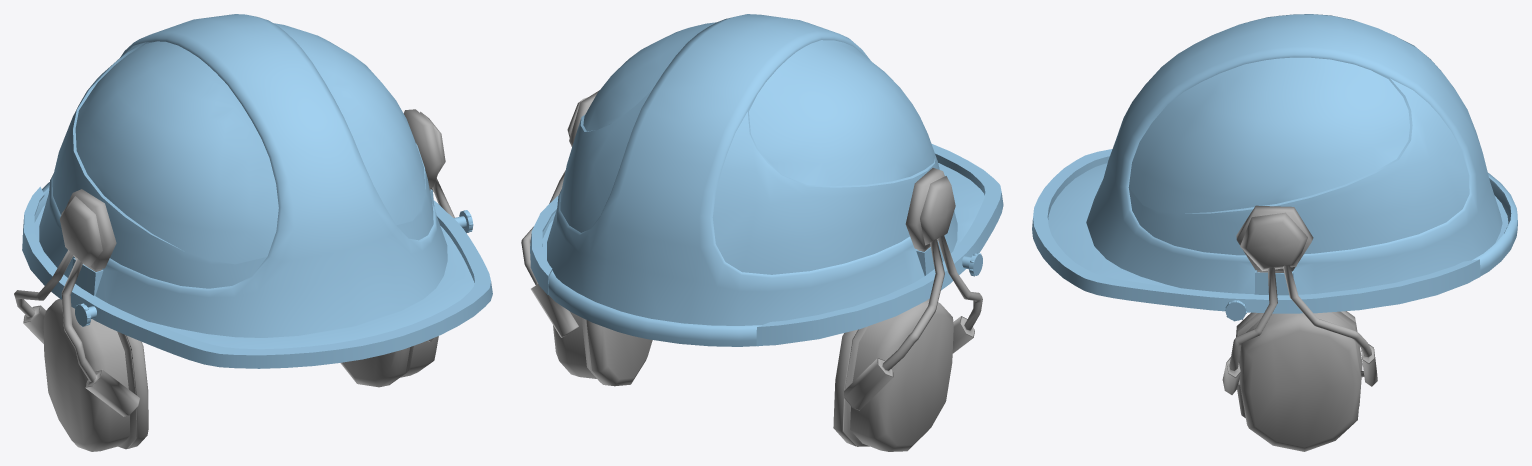
The model's file is Helmet_HeadPhones.fbx.
3 views of the same model, side by side, from view 1: azimuth 30°, elevation 25°; view 2: azimuth 150°, elevation 25°; view 3: azimuth 270°, elevation 25° (orthographic). The views are drawn at different scales.
Visible parts, largest first — view 1: Helmet_Headphones; view 2: Helmet_Headphones; view 3: Helmet_Headphones.
Boxes of the visible parts, box(x1,y1,x2,y2) form: Helmet_Headphones: box(14, 14, 492, 451); Helmet_Headphones: box(521, 14, 1003, 451); Helmet_Headphones: box(1032, 14, 1517, 451).
Bounding box in the file's own units: 0.313 × 0.2859 × 0.3546.
